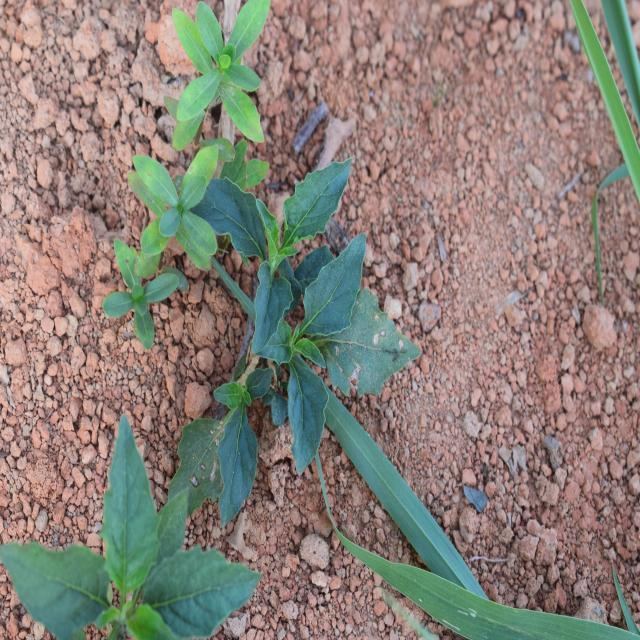Black_nightshade: (215, 189, 406, 471), (7, 439, 254, 636)
